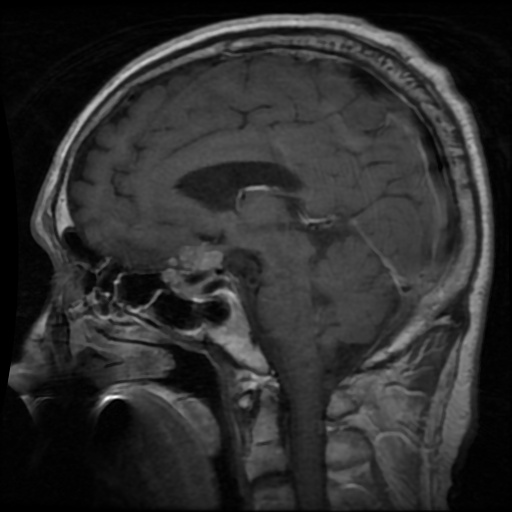pituitary: (165, 247, 227, 299)
